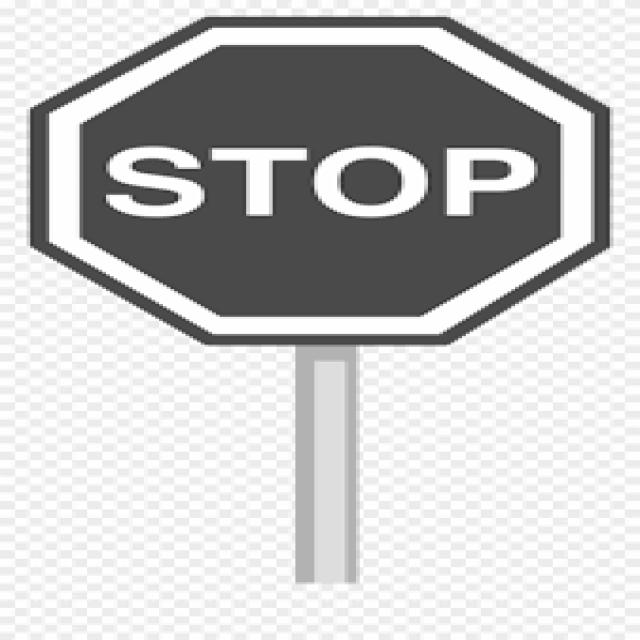stop sign: (46, 18, 612, 342)
